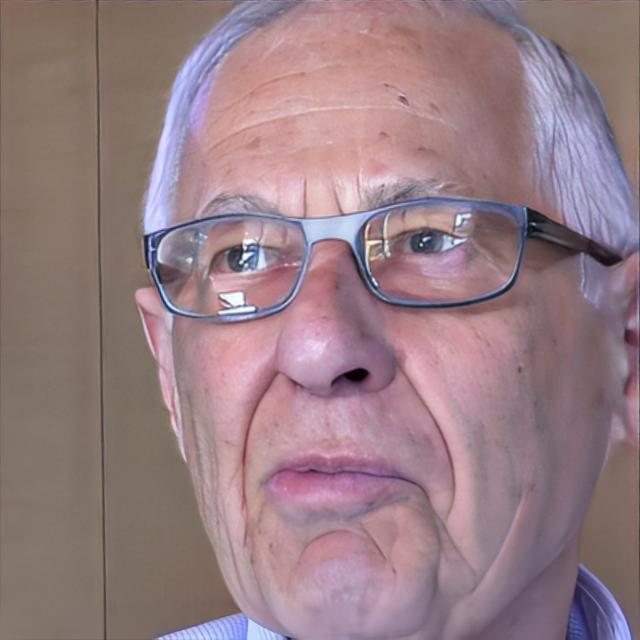disgust: (172, 3, 614, 640)
